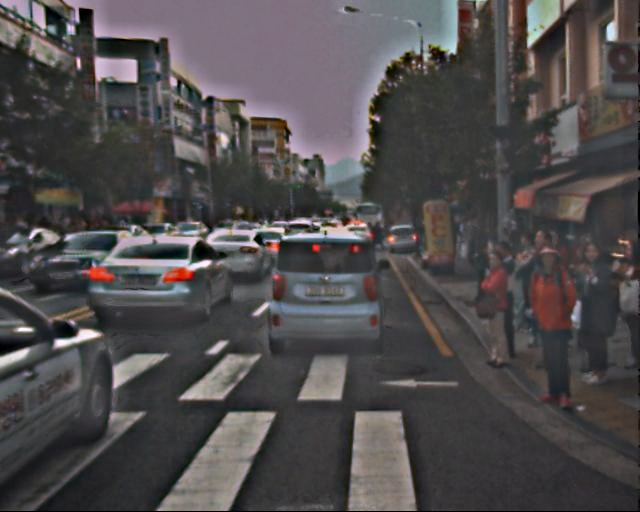person: (518, 248, 585, 411), (558, 241, 617, 386), (515, 229, 572, 369), (484, 240, 532, 356), (472, 254, 518, 366), (601, 240, 640, 372), (506, 235, 550, 343), (463, 220, 482, 266)
